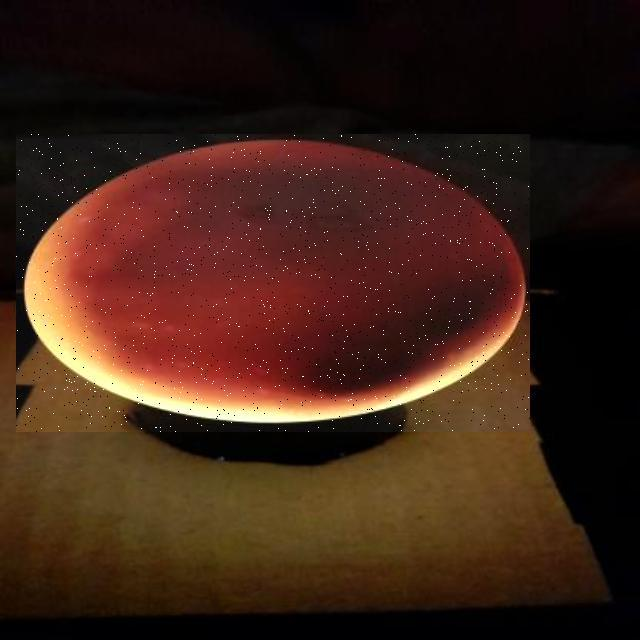Infertile: (16, 134, 530, 432)
